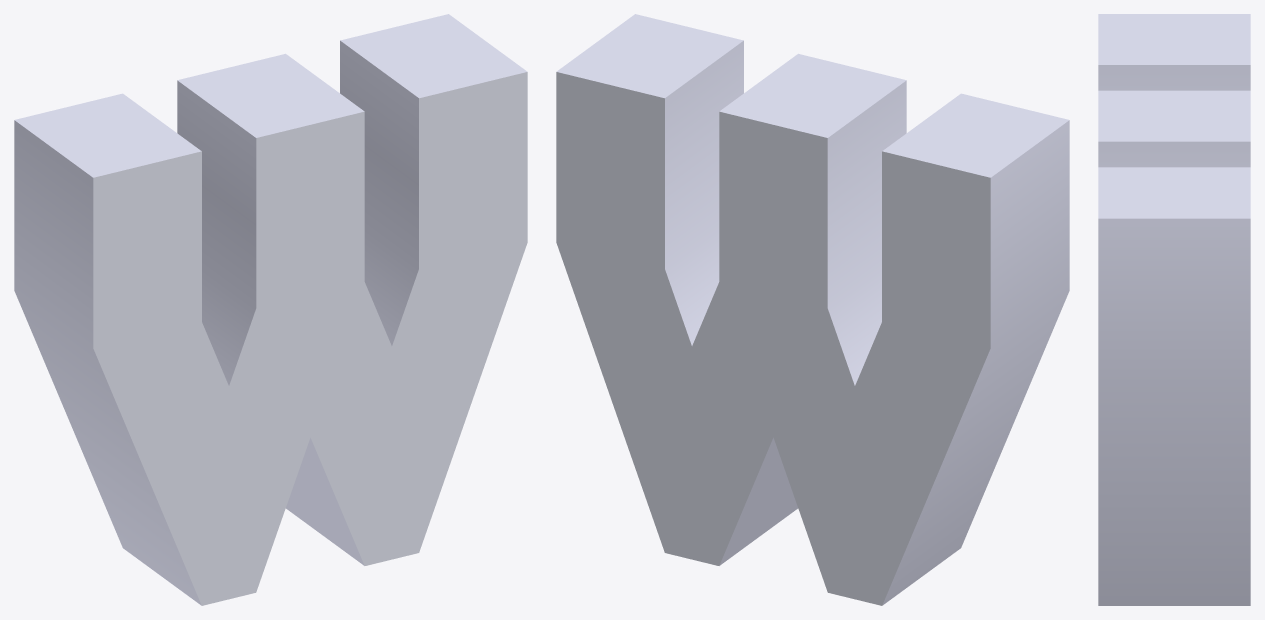
Rendered from W_DeltaBlock_Grey.glb.
The picture shows the model from 3 angles, left to right: view 1: azimuth 30°, elevation 25°; view 2: azimuth 150°, elevation 25°; view 3: azimuth 270°, elevation 25°; orthographic projection. The views are drawn at different scales.
Visible parts, largest first — view 1: w_DeltaBlock_Grey; view 2: w_DeltaBlock_Grey; view 3: w_DeltaBlock_Grey.
Part boxes in pixels (left/top/right/bottom): w_DeltaBlock_Grey: left=14, top=14, right=527, bottom=605; w_DeltaBlock_Grey: left=556, top=14, right=1069, bottom=605; w_DeltaBlock_Grey: left=1098, top=14, right=1250, bottom=605.
Size of what is drawn, in the model's own units: 0.1429 by 0.1429 by 0.045.
Materials: 2 (2 with a texture image).
